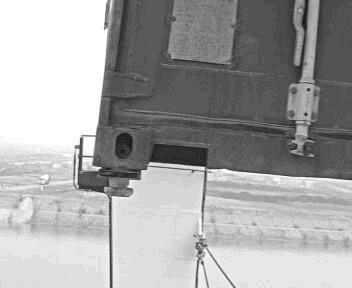twist_lock_1: (92, 162, 147, 203)
